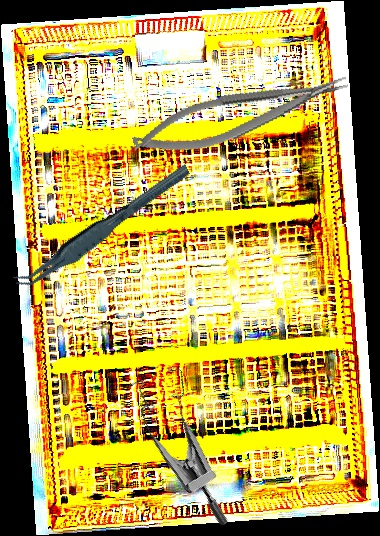Needle Holder: (127, 65, 355, 165)
Speculum: (105, 352, 280, 528)
Tissue Forceps: (3, 163, 202, 292)
